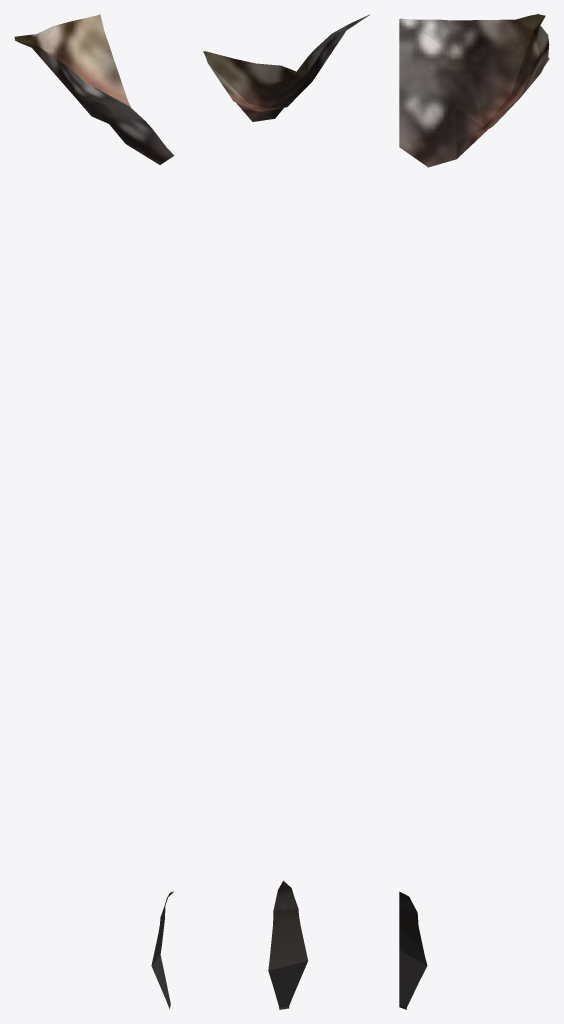
3 renders of one model, left to right at view 1: azimuth 30°, elevation 25°; view 2: azimuth 150°, elevation 25°; view 3: azimuth 270°, elevation 25°, orthographic. The views are drawn at different scales.
Size of the model in its own units: 0.0849 by 0.8374 by 0.1201.
1 material, 1 textured.
